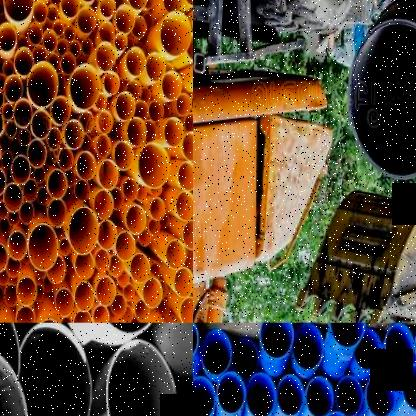pipe: (347, 17, 416, 179), (19, 322, 92, 416), (105, 339, 178, 416), (0, 345, 29, 416), (68, 206, 99, 256), (27, 223, 58, 271), (138, 142, 170, 188), (292, 323, 324, 369), (69, 63, 100, 110), (160, 12, 192, 57), (27, 62, 58, 107), (201, 330, 232, 375), (366, 371, 396, 416), (246, 373, 276, 416), (216, 372, 246, 414), (385, 323, 414, 366), (260, 323, 294, 359), (0, 323, 20, 384), (354, 327, 382, 370), (276, 374, 304, 416), (306, 376, 334, 416), (334, 376, 362, 416), (232, 339, 258, 380), (329, 323, 366, 348), (193, 375, 215, 416), (125, 204, 147, 234), (97, 159, 119, 189), (93, 188, 114, 219), (95, 275, 116, 306), (402, 364, 416, 410), (115, 232, 136, 262), (126, 117, 147, 147), (125, 46, 146, 76), (13, 46, 34, 76), (166, 239, 186, 270), (97, 220, 117, 251), (74, 281, 94, 312), (47, 170, 68, 199), (163, 118, 184, 147), (130, 253, 150, 283), (7, 230, 27, 260), (11, 155, 31, 185), (114, 140, 134, 170), (146, 52, 166, 82), (142, 279, 162, 309), (17, 276, 37, 306), (96, 41, 115, 72), (51, 96, 71, 125), (77, 6, 97, 35), (115, 5, 135, 34), (77, 151, 96, 181), (65, 120, 84, 150), (32, 109, 51, 139), (116, 90, 135, 120), (174, 268, 193, 298), (27, 140, 47, 168), (162, 72, 182, 100), (48, 199, 67, 228), (4, 183, 23, 212), (14, 98, 33, 127), (175, 191, 193, 221), (47, 256, 66, 284), (75, 252, 94, 280), (4, 74, 23, 102), (55, 288, 74, 316), (0, 22, 17, 52), (177, 161, 193, 190), (103, 71, 120, 95), (149, 198, 166, 221), (74, 179, 91, 202), (108, 254, 124, 278), (97, 110, 113, 134), (98, 20, 115, 42), (96, 135, 112, 158), (176, 93, 192, 116), (42, 29, 58, 52), (47, 127, 62, 151), (79, 111, 94, 135), (6, 256, 22, 278), (148, 100, 164, 122), (134, 300, 150, 322), (110, 294, 126, 316), (95, 249, 110, 272), (20, 202, 35, 225), (22, 179, 37, 202), (60, 0, 79, 18), (92, 304, 110, 323), (180, 297, 193, 323), (126, 80, 142, 101), (182, 220, 193, 250), (123, 178, 138, 200), (58, 148, 73, 170), (61, 53, 76, 75), (28, 23, 43, 45), (132, 16, 147, 38), (110, 187, 124, 210), (4, 284, 18, 307), (182, 132, 193, 161), (34, 1, 48, 23), (32, 45, 48, 64), (16, 306, 35, 322), (134, 100, 148, 121), (100, 0, 116, 18), (114, 32, 128, 52), (144, 120, 156, 143), (163, 0, 183, 13), (0, 242, 8, 272), (56, 37, 68, 57), (73, 311, 93, 323), (122, 284, 136, 301), (1, 151, 13, 170), (138, 229, 151, 246), (5, 121, 18, 138), (48, 53, 61, 70), (63, 24, 76, 41), (150, 261, 162, 279), (60, 238, 72, 256), (37, 187, 49, 205), (18, 128, 30, 146), (69, 40, 81, 58), (81, 38, 93, 56), (52, 20, 64, 38), (142, 12, 154, 30), (158, 300, 170, 318), (118, 269, 130, 287), (96, 92, 107, 111), (148, 219, 160, 236), (136, 184, 148, 201), (34, 167, 46, 184), (2, 102, 14, 119), (183, 112, 193, 132), (128, 0, 148, 10), (34, 283, 44, 303), (62, 186, 73, 204), (8, 210, 20, 226), (9, 138, 21, 154), (107, 124, 119, 140), (121, 306, 133, 322), (319, 410, 351, 416), (45, 150, 56, 167), (0, 167, 6, 197), (141, 86, 151, 104), (57, 72, 66, 92), (187, 31, 193, 61), (48, 4, 58, 22), (3, 60, 14, 76), (65, 170, 75, 187), (81, 135, 92, 150), (0, 201, 9, 219), (0, 219, 10, 235), (44, 276, 54, 292), (17, 36, 29, 49), (34, 268, 46, 280), (160, 212, 169, 228), (0, 269, 9, 285), (150, 187, 162, 197), (144, 0, 156, 9), (0, 85, 4, 108), (0, 73, 5, 90), (130, 316, 142, 323), (60, 317, 72, 323), (0, 286, 4, 304), (0, 0, 4, 14), (50, 0, 61, 5), (183, 0, 192, 5)
